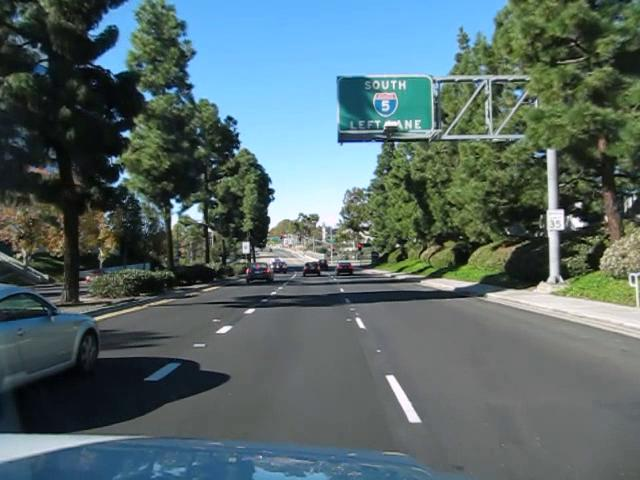speedLimit35: (546, 208, 564, 230)
